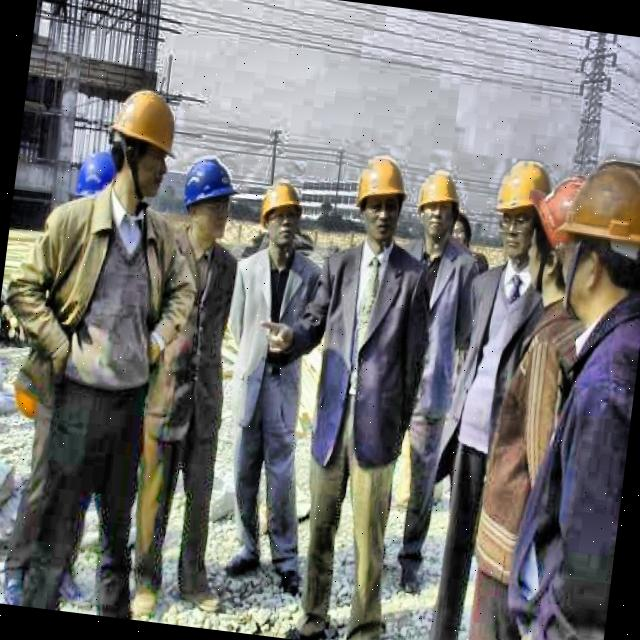helmet: (552, 154, 640, 329), (103, 79, 185, 204), (488, 154, 555, 271), (524, 167, 582, 291), (174, 148, 242, 252), (347, 147, 414, 252), (69, 146, 132, 237), (254, 172, 310, 262), (412, 164, 463, 250)
